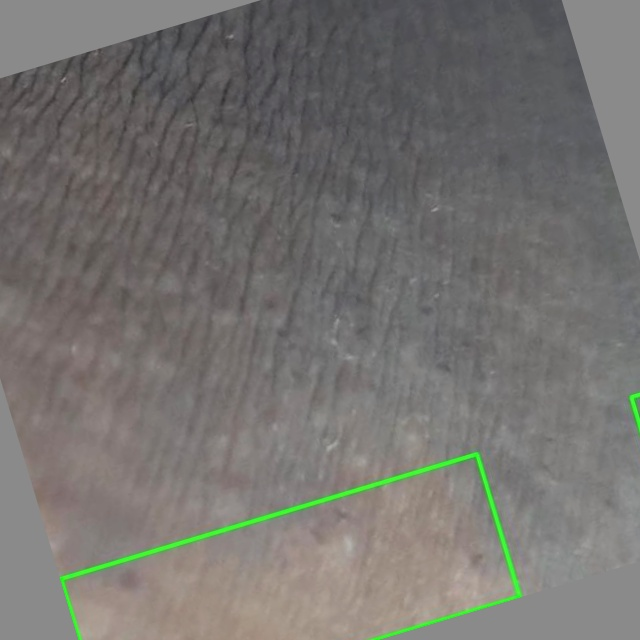Tinea Corporis: (61, 454, 520, 639)
